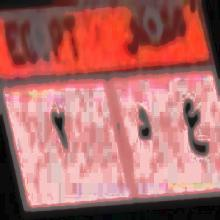2: (50, 102, 72, 154)
ain: (178, 93, 209, 161), (132, 102, 156, 148)
